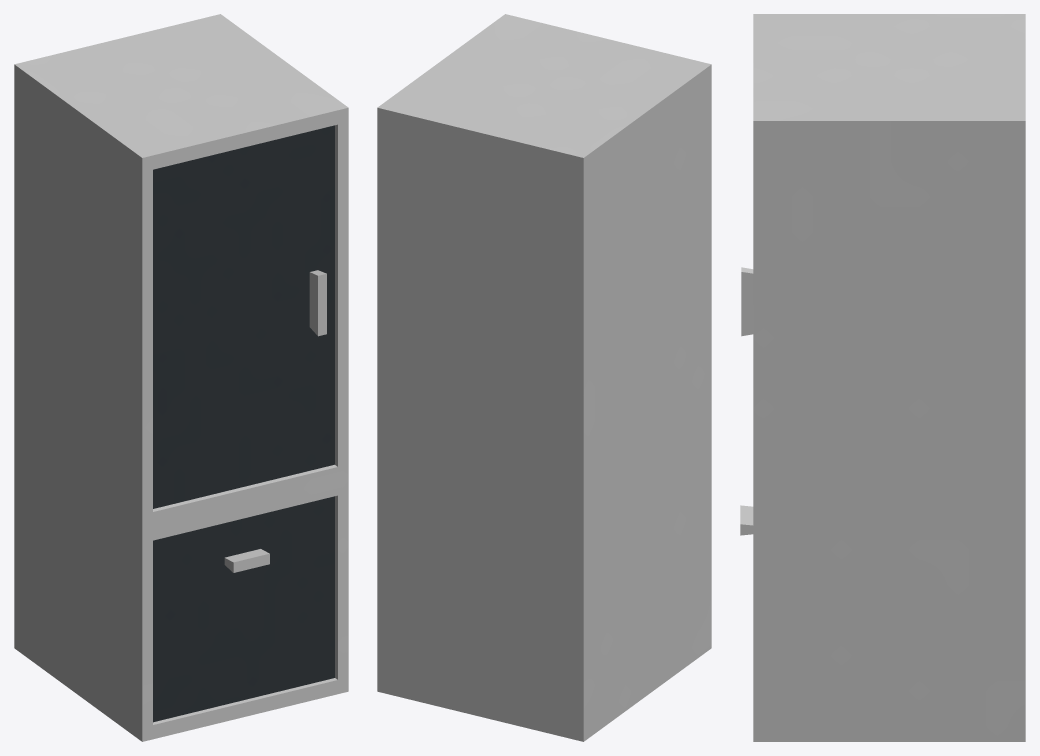
The model's file is Closet_01_03.fbx.
3 views of the same model, side by side, from view 1: azimuth 30°, elevation 25°; view 2: azimuth 150°, elevation 25°; view 3: azimuth 270°, elevation 25° (orthographic). The views are drawn at different scales.
Visible parts, largest first — view 1: Closet_01_03, Closet_Door_Upper.002, Closet_Door_Bottom.002; view 2: Closet_01_03; view 3: Closet_01_03, Closet_Door_Upper.002.
Part boxes in pixels (bbox=[...]): Closet_01_03: bbox=[14, 14, 348, 741]; Closet_Door_Upper.002: bbox=[153, 125, 334, 508]; Closet_Door_Bottom.002: bbox=[153, 496, 334, 722]; Closet_01_03: bbox=[377, 14, 711, 741]; Closet_01_03: bbox=[753, 14, 1025, 741]; Closet_Door_Upper.002: bbox=[741, 267, 753, 336].
Size of the model in its own units: 0.7189 by 1.94 by 0.8096.
